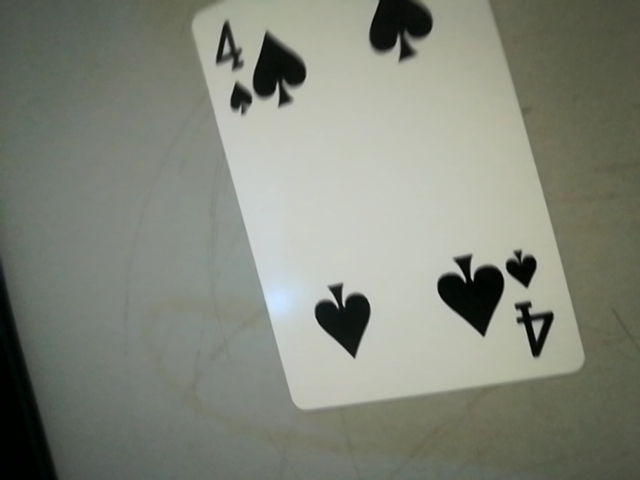ht 4: (496, 237, 565, 371)
